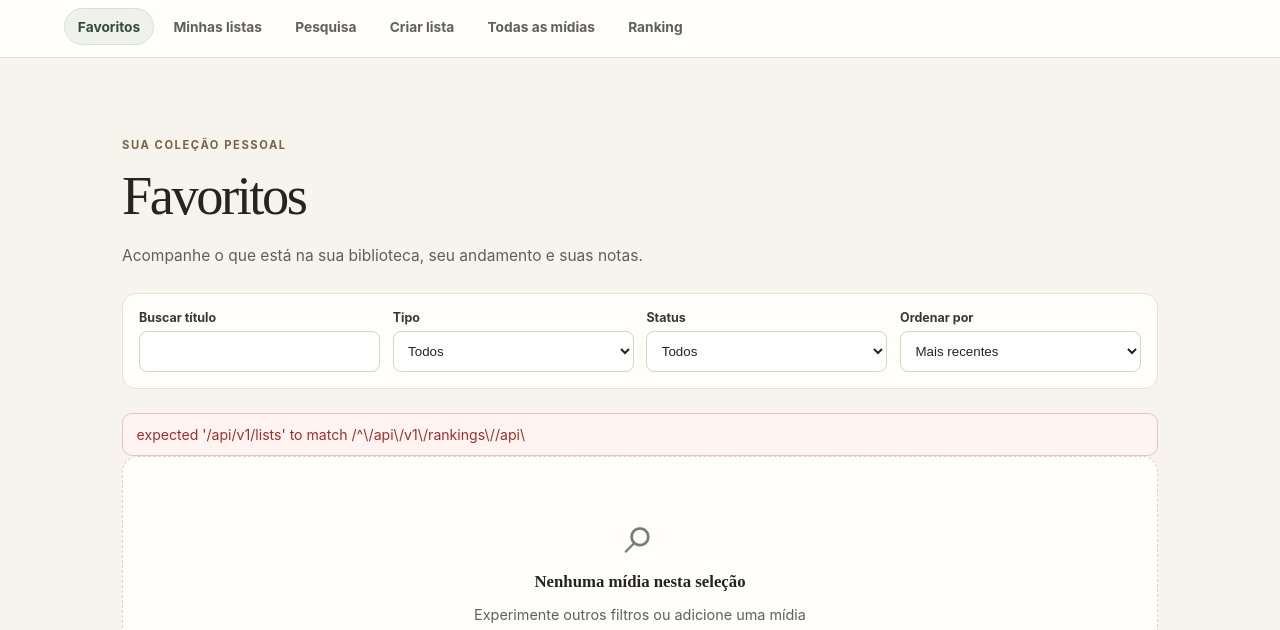
Test: cenario9_consultarRankingPessoal › renders server positions and order and pages through the selected type
Click the button "Ranking" at (655, 27), box [614,8,696,45]
(page scrolled)
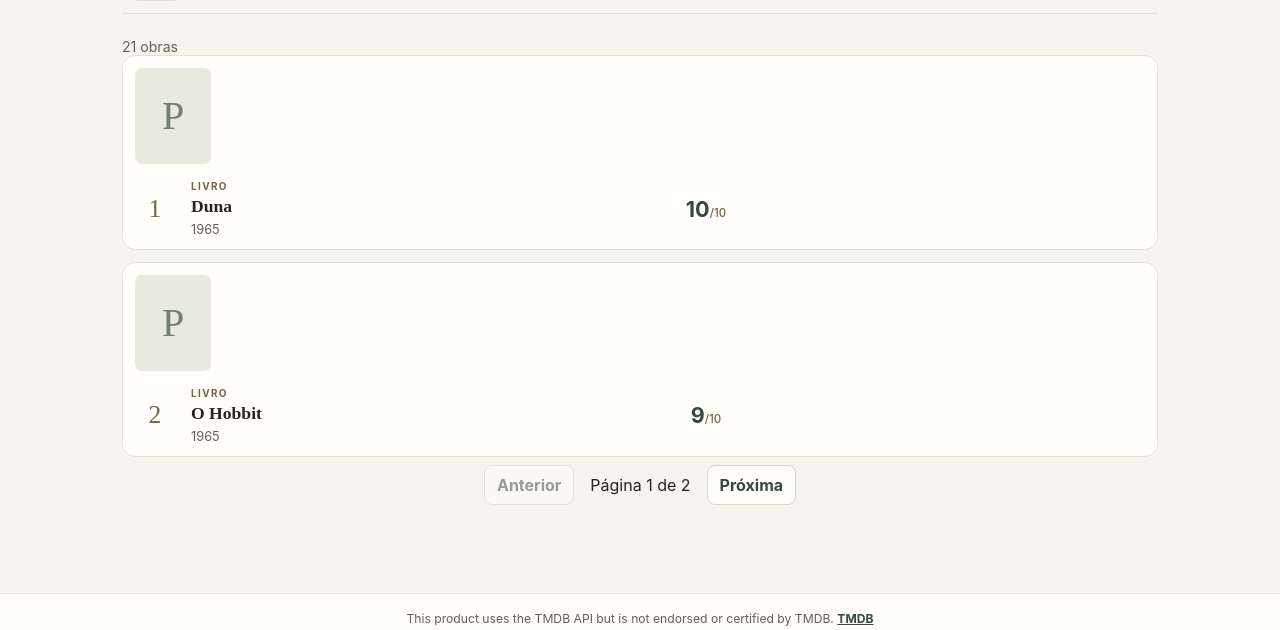
Expected: the heading "Duna" is shown, [191,196,232,216]
Expected: the heading "O Hobbit" is shown, [191,402,267,424]
Expected: the element named "Nota 10 de 10" is shown, [686,196,726,222]
Click the button "Próxima" at (751, 485), box [707,465,796,505]
(page scrolled)
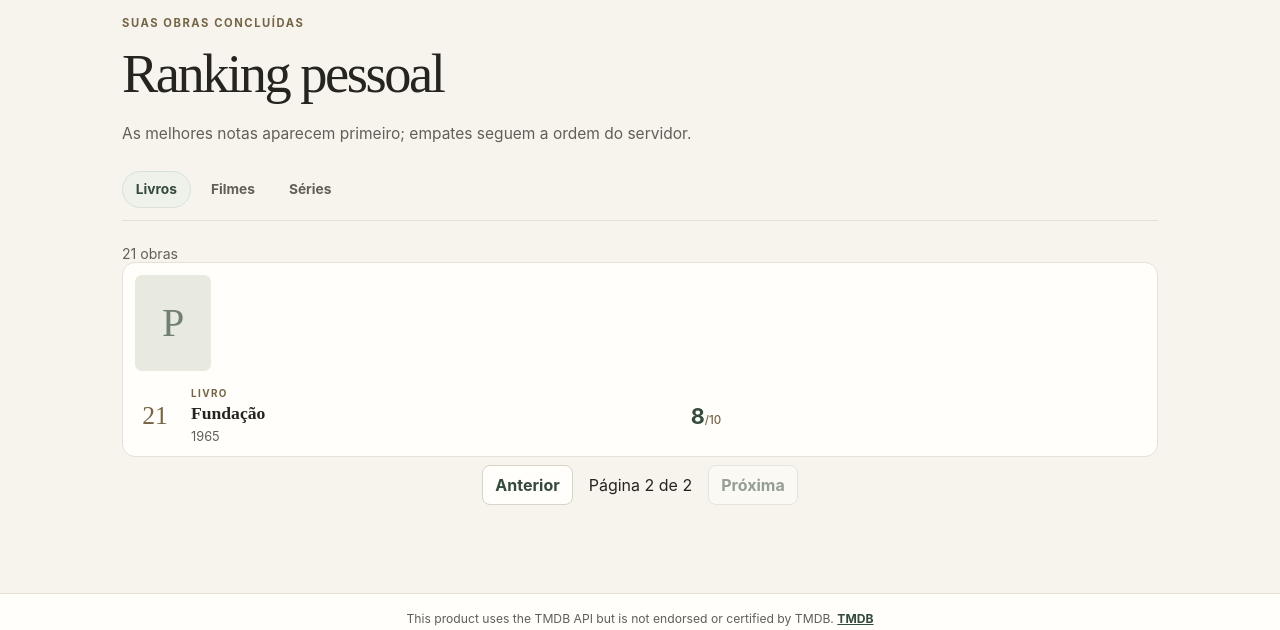
Expected: the heading "Fundação" is shown, [191,403,267,424]
Expected: the text "21" is shown, [142,401,168,430]
Click the button "Filmes" at (233, 189), box [197,171,269,208]
(page scrolled)
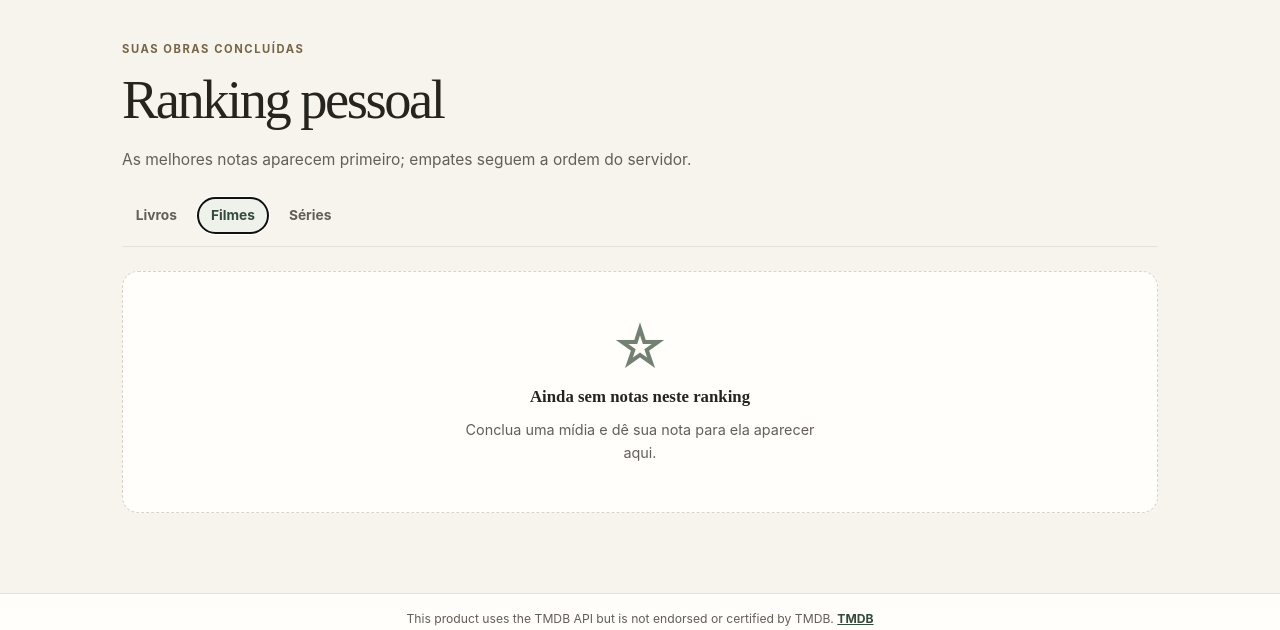
Expected: the heading "Ainda sem notas neste ranking" is shown, [530,387,750,407]
